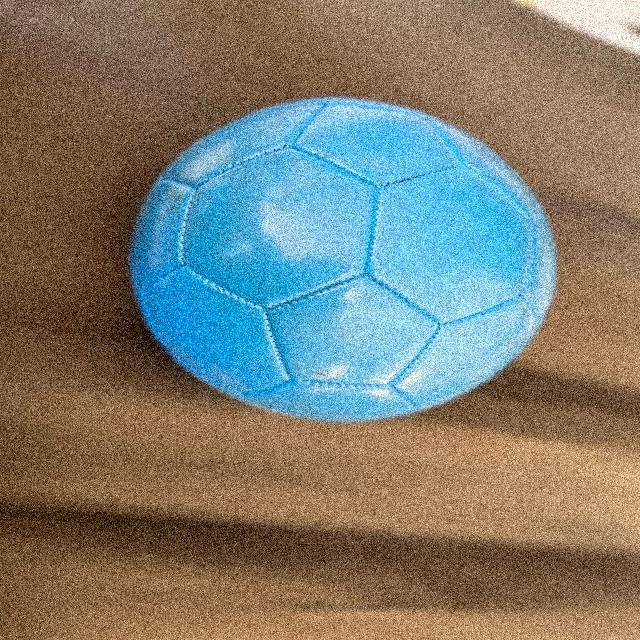blue_ball: (124, 95, 558, 424)
